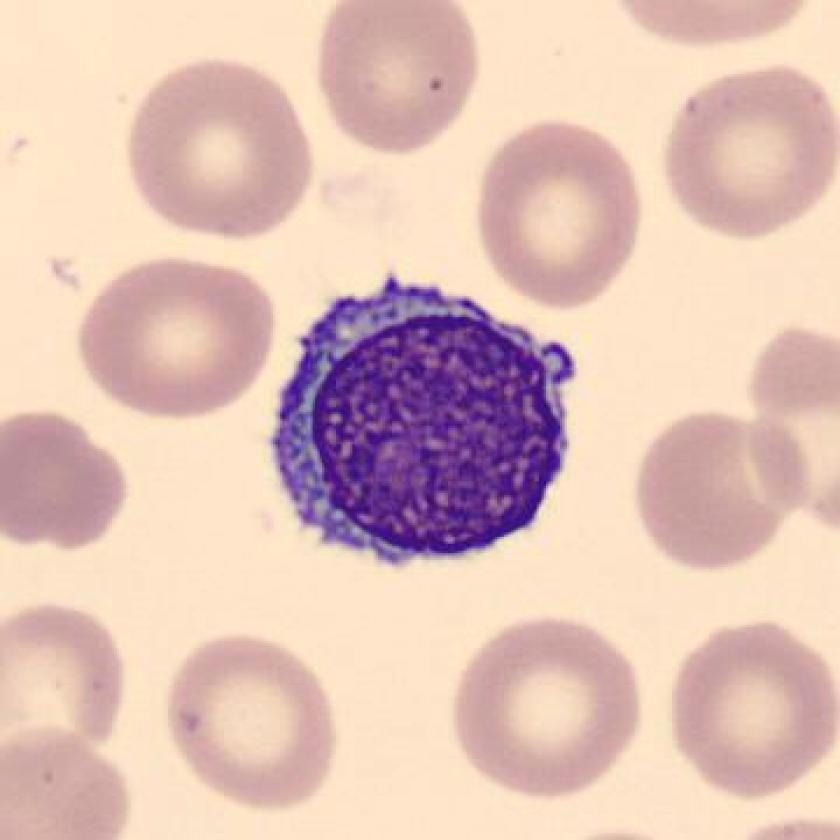lymphocyte: (251, 263, 596, 591)
